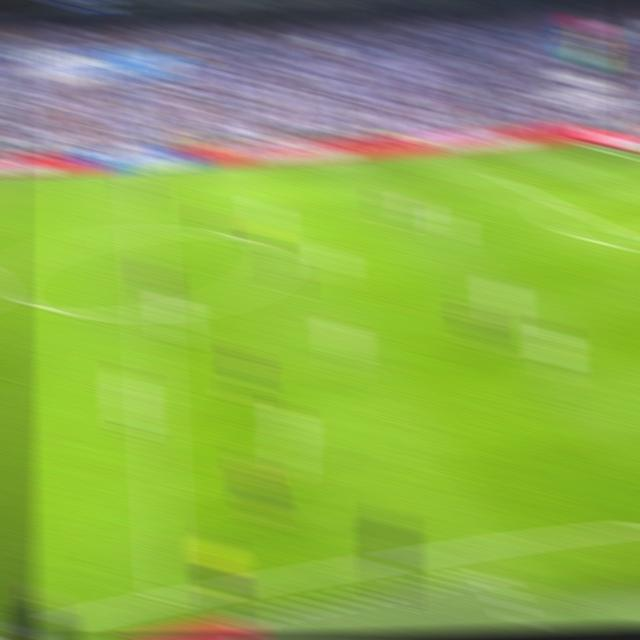halfcircle_bottom: (137, 297, 165, 327)
halfcircle_top: (133, 220, 159, 243)
midline_bottom_intersection: (150, 580, 182, 611)
midline_top_intersection: (132, 165, 155, 180)
top_arc_area_intersection: (547, 194, 572, 212)
